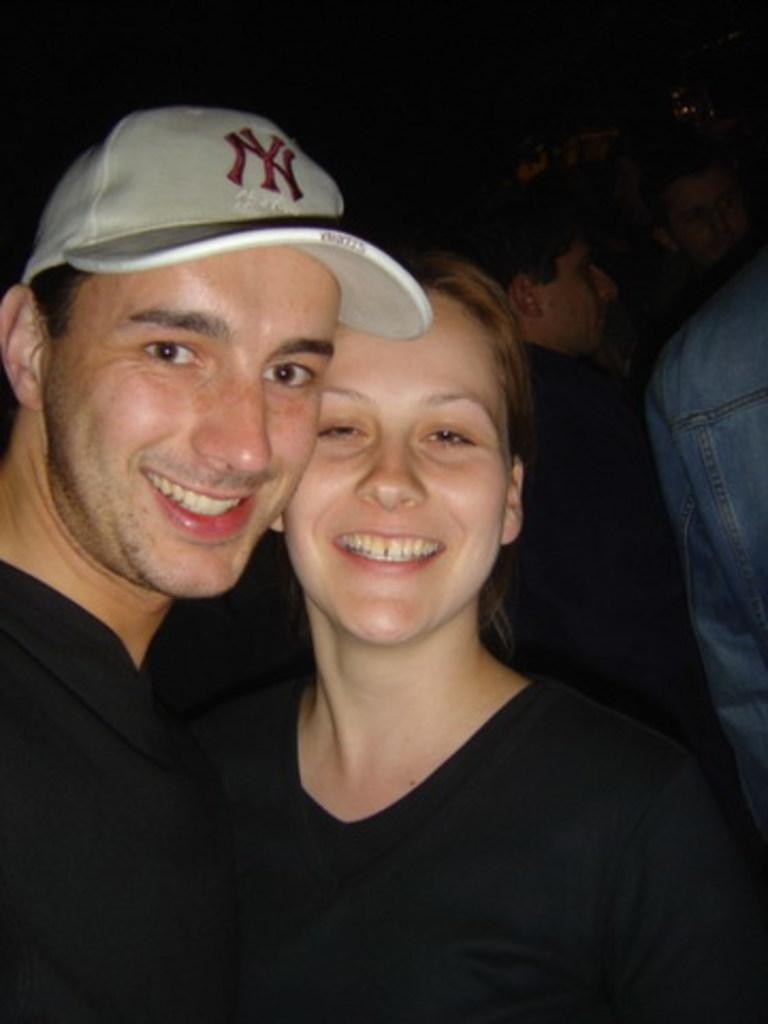Hat: (21, 108, 430, 344)
